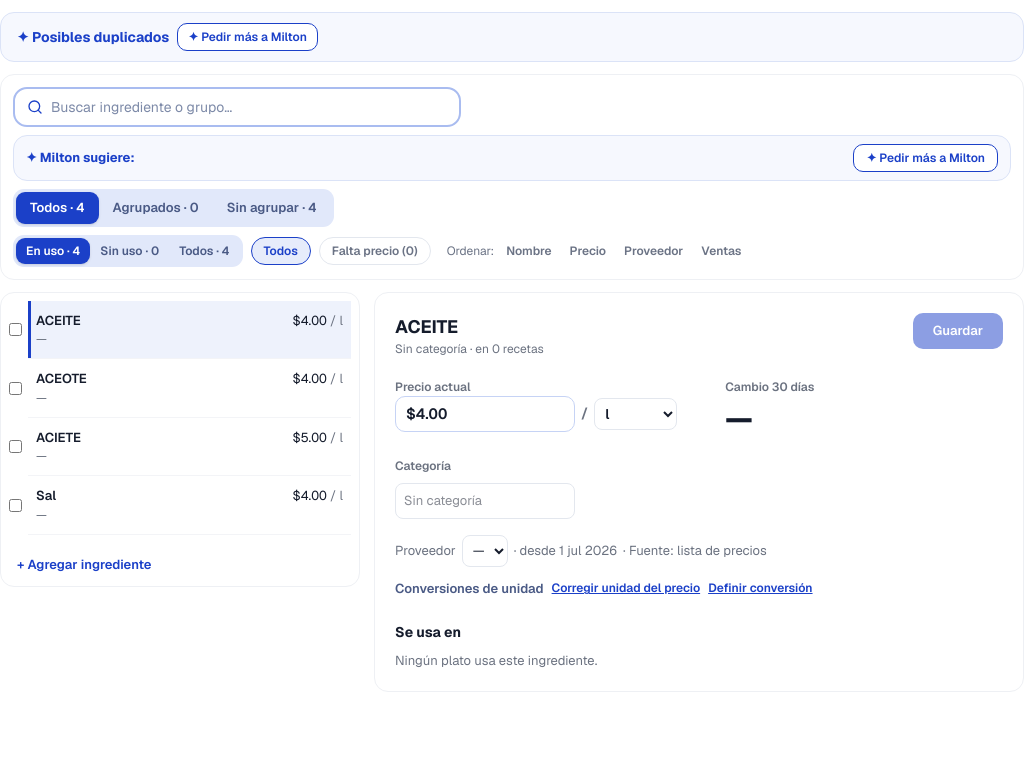
Scenario: «Unir…» in the selection bar › merges 3 selected items into the chosen survivor, with the chosen price, via the existing route
The image size is (1024, 768).
Click the checkbox named "Seleccionar ACEITE" at x=16, y=330, box 9,323 -> 22,336
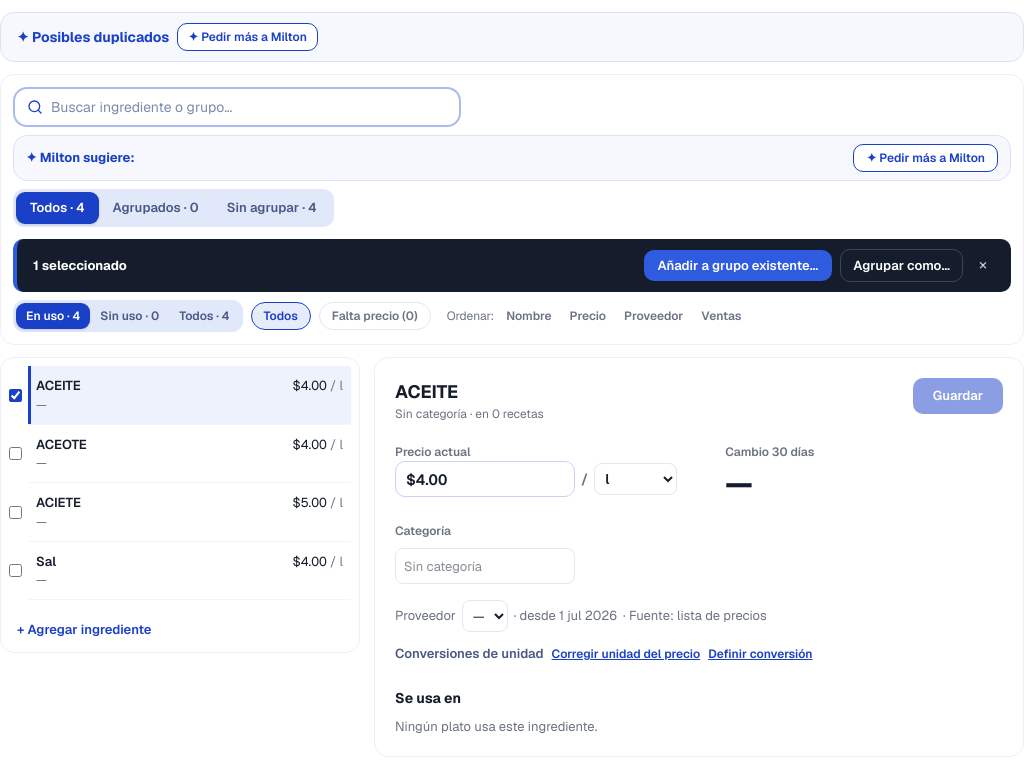
Click the checkbox named "Seleccionar ACEOTE" at x=16, y=454, box 9,447 -> 22,460
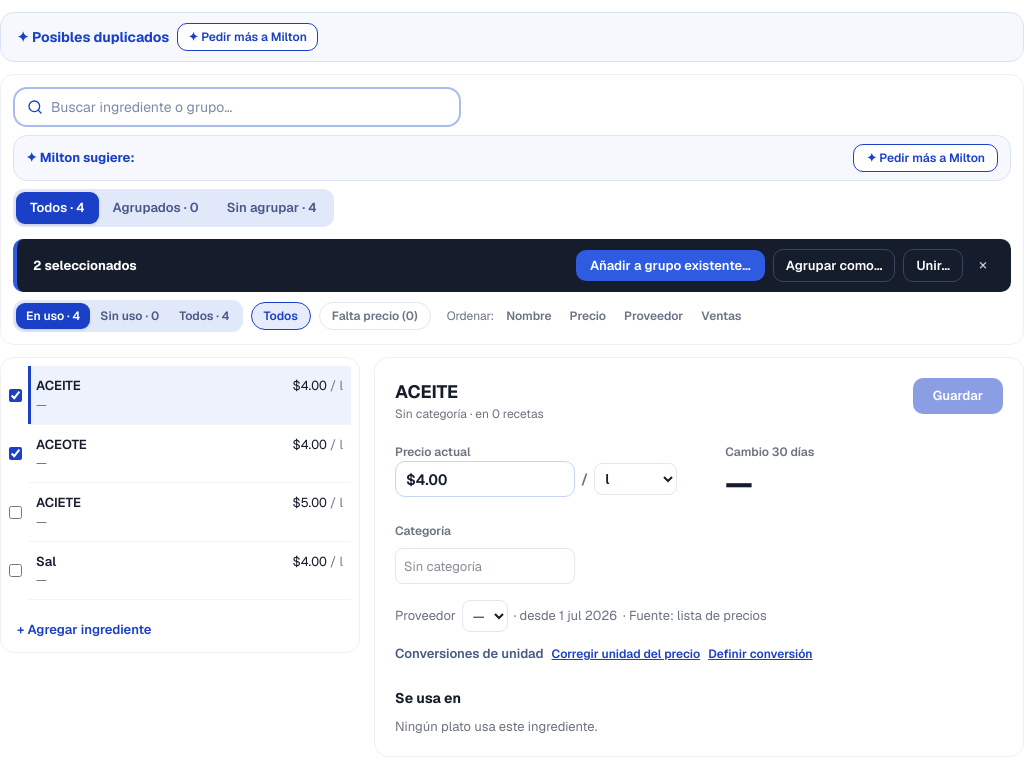
Click the checkbox named "Seleccionar ACIETE" at x=16, y=512, box 9,506 -> 22,519
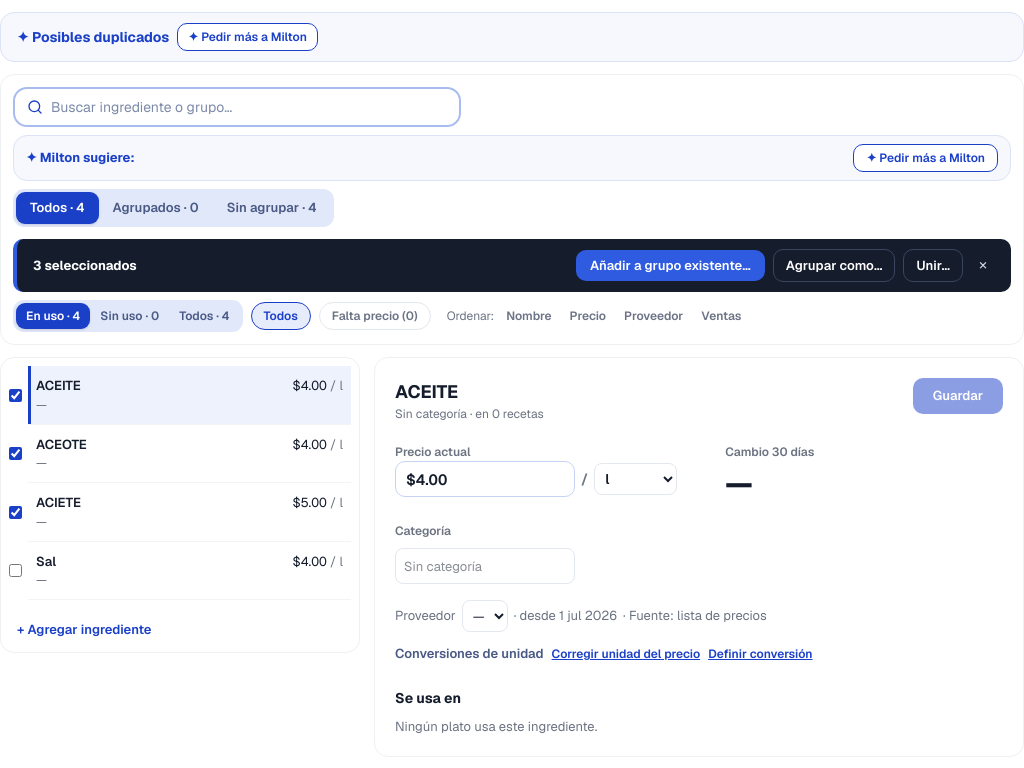
Click the button "Unir…" at x=933, y=265, box 904,248 -> 963,282
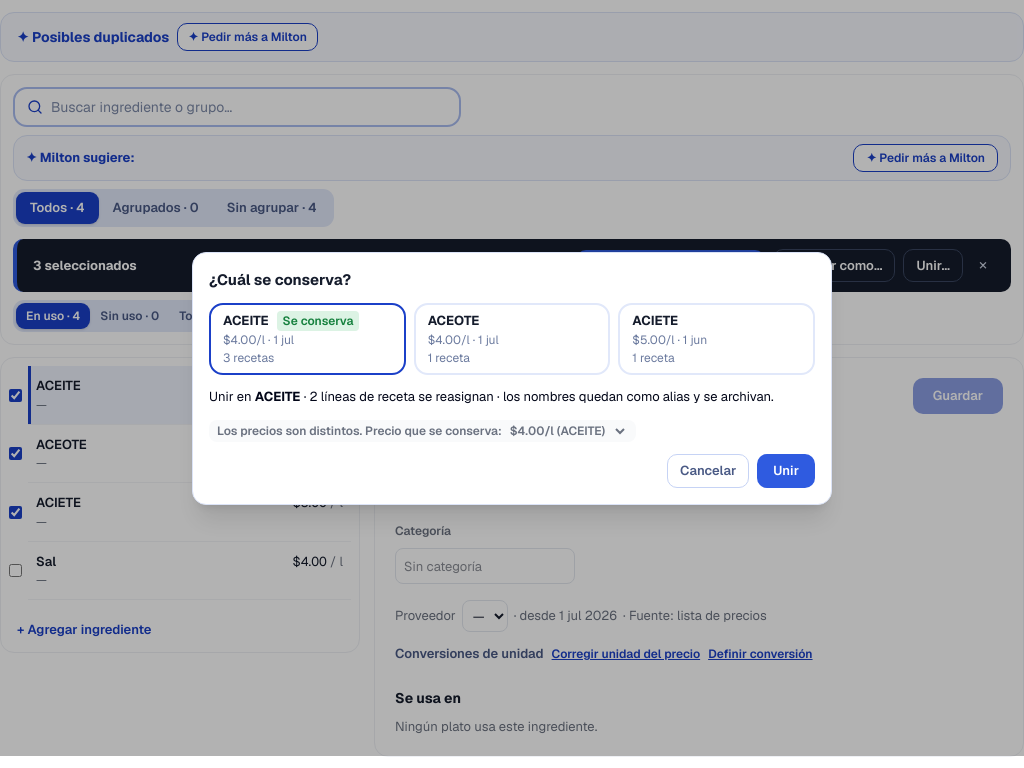
Now the heading "¿Cuál se conserva?" is shown, box 209,270 -> 351,288
Now the button titled "ACEITE" shows "3 recetas", box 209,303 -> 406,374
Click the button titled "ACEOTE" at x=512, y=339, box 414,303 -> 610,374
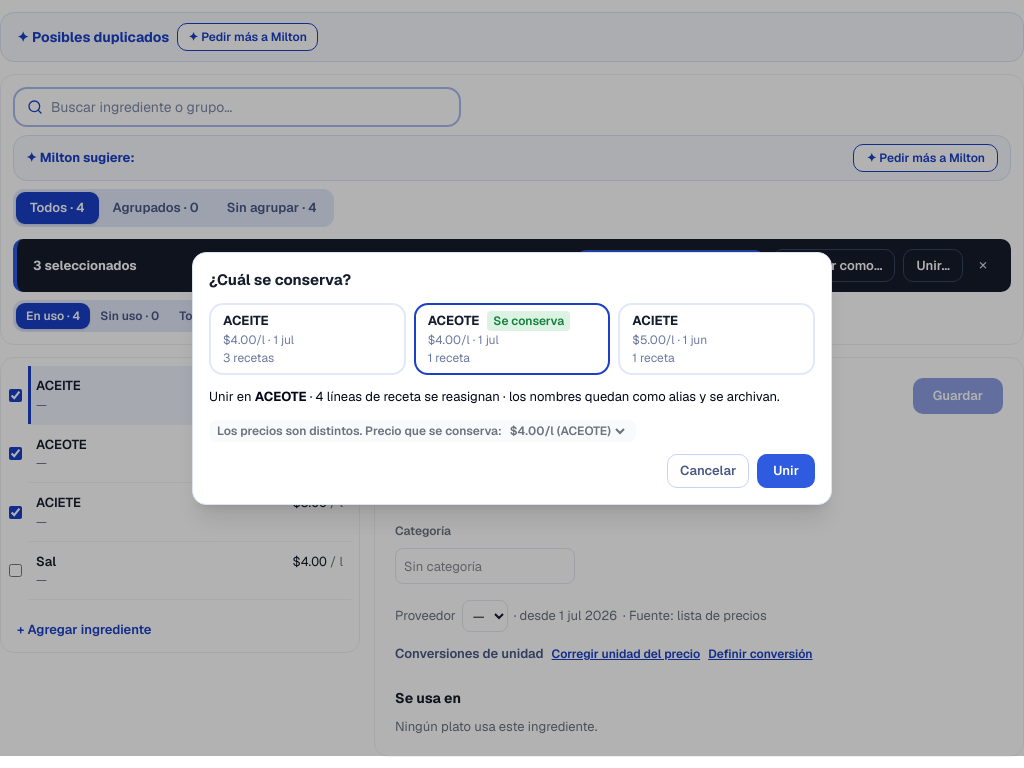
Now the dropdown labelled "Precio que se conserva" is shown
Select "$5.00/l (ACIETE)" in the dropdown labelled "Precio que se conserva" at x=567, y=431, box 506,422 -> 628,440
Click the button "Unir" at x=786, y=471, box 757,454 -> 815,488
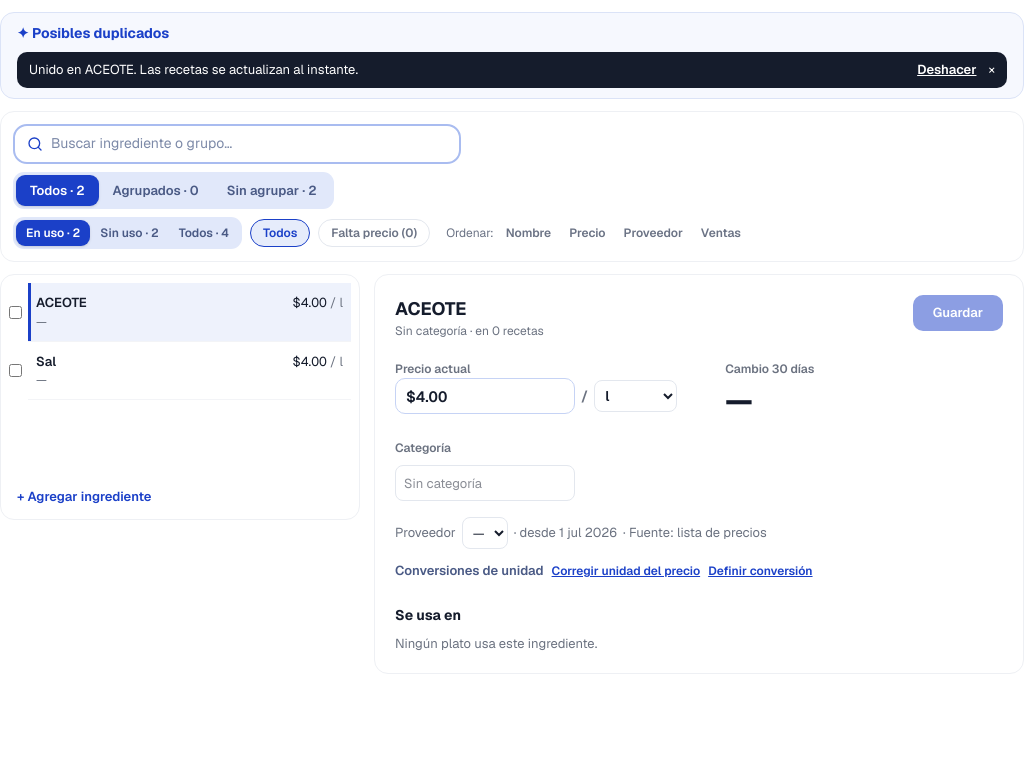
Now the dialog with test id "manual-merge-dialog" is gone
Now the button labelled "Seleccionar ACEITE" is gone
Now the button labelled "Seleccionar ACIETE" is gone
